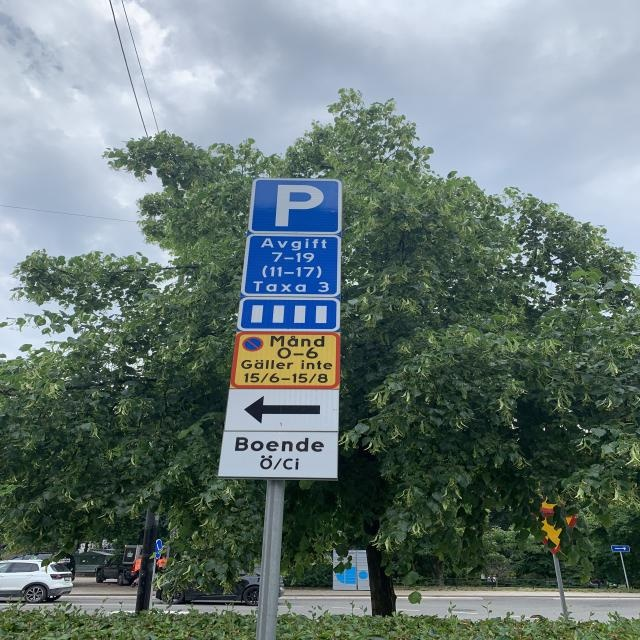P-skylt: (248, 175, 345, 236)
